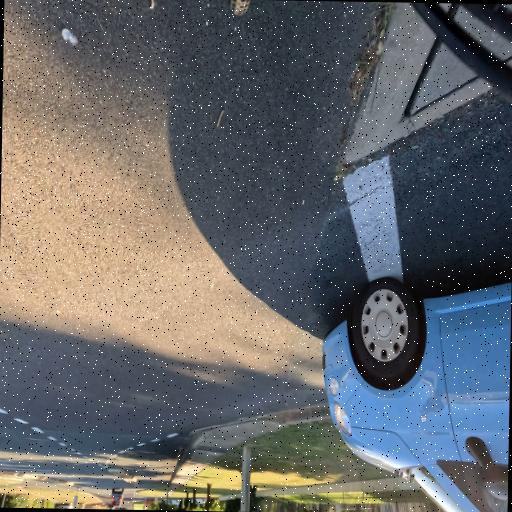kerb_cut: (210, 416, 264, 441)
